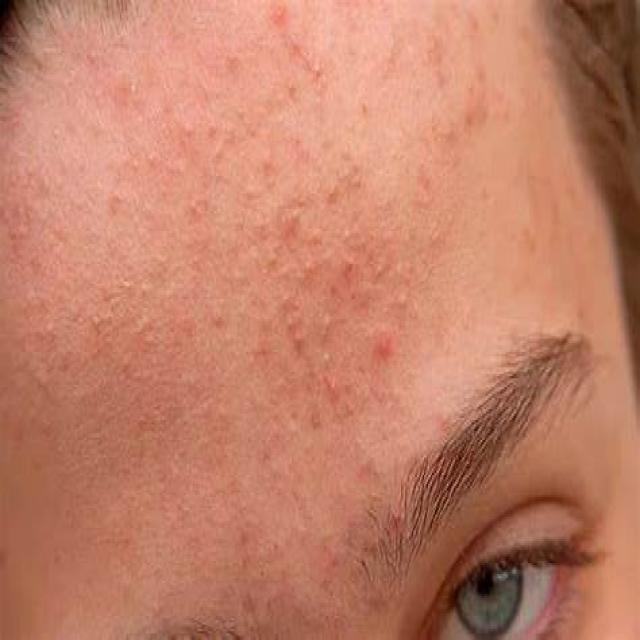fungal: (0, 55, 451, 640)
